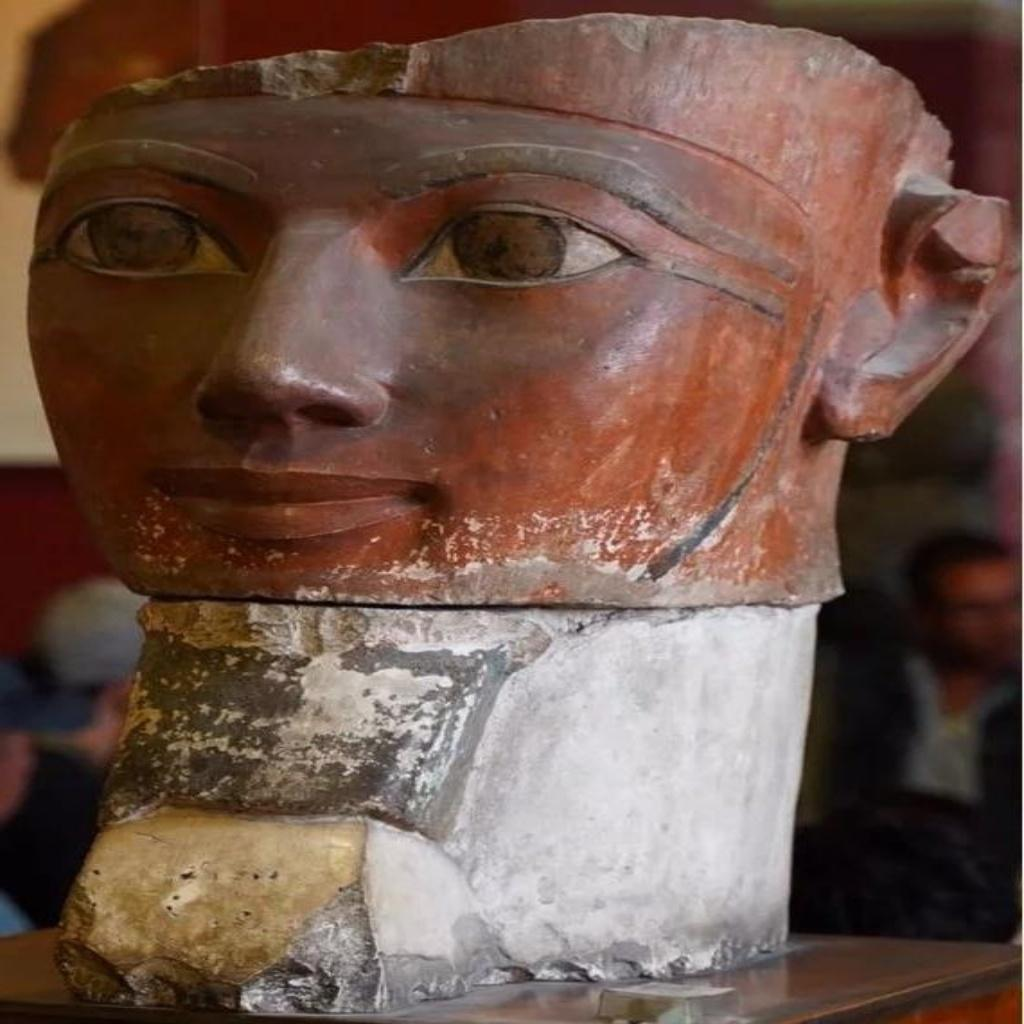Hatshepsut face: (22, 12, 1016, 1018)
